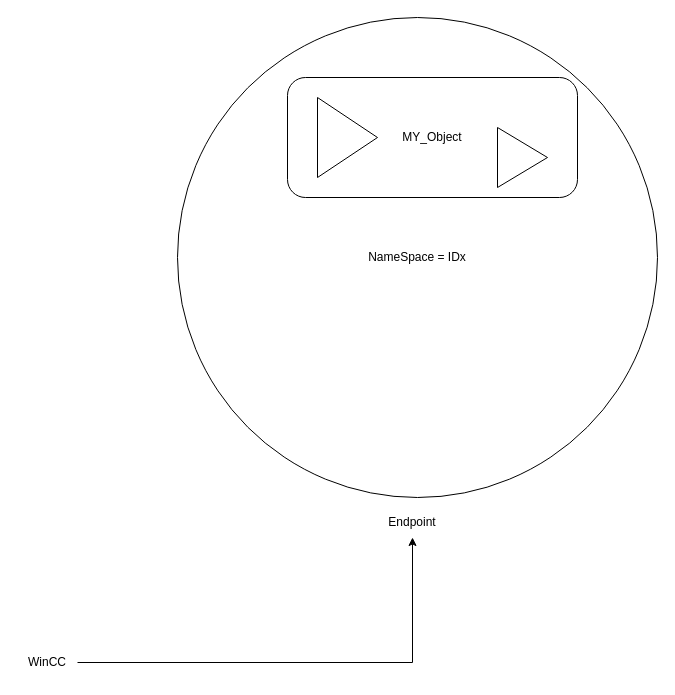
The diagram is 675 pixels wide and 695 high, and some of its shapes have lost their labels. Each missing label, with the centre of its shape:
"Value_1" belongs at [347,137].
"Value_2" belongs at [522,157].
